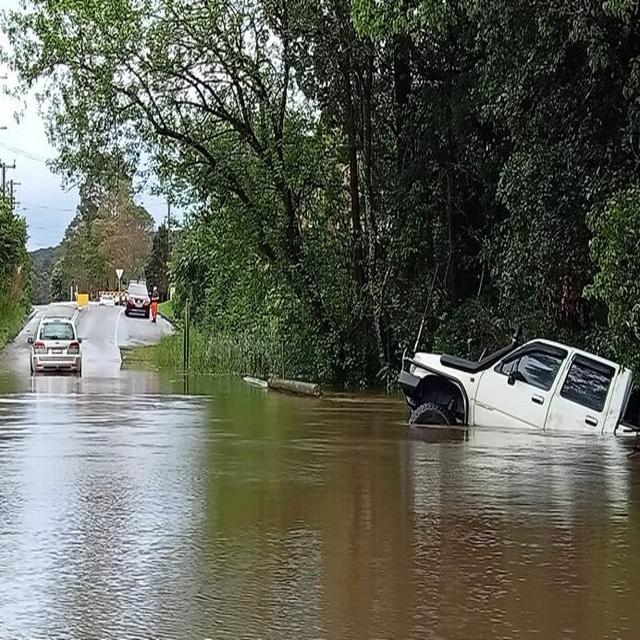Car-RiskLevel1: (22, 302, 99, 377)
Car-RiskLevel3: (387, 316, 637, 475)
